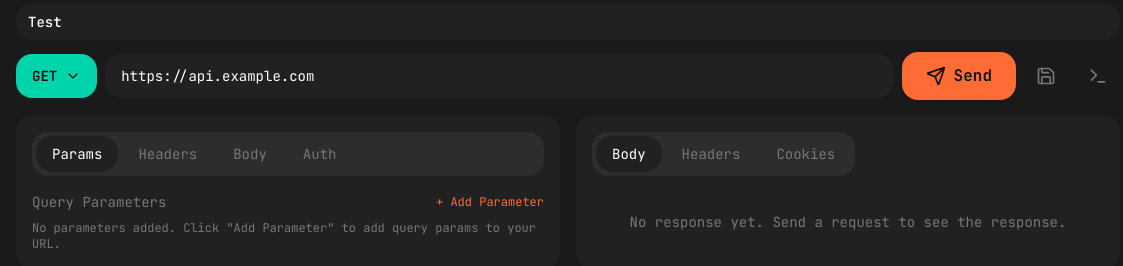
RequestBuilder › shows all body type options
// Click the first body button (request tab)
Click the 1st button "body": point(250, 154) [217,136,283,172]
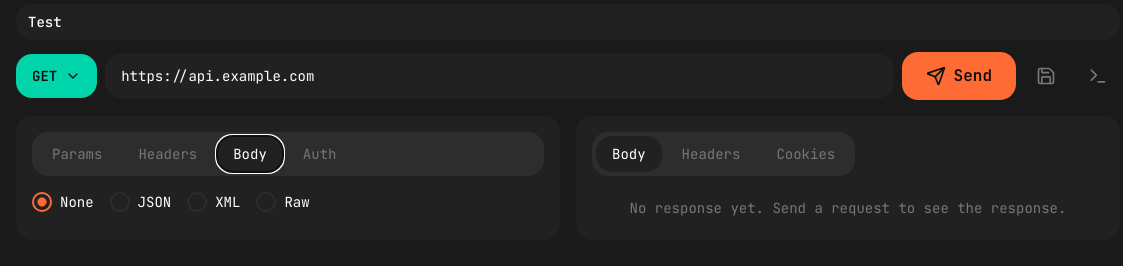
Expected: the text "None" is shown, [60,192,94,212]
Expected: the text "JSON" is shown, [138,192,171,212]
Expected: the text "XML" is shown, [215,192,240,212]
